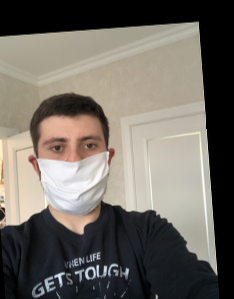with_mask: (38, 127, 113, 215)
